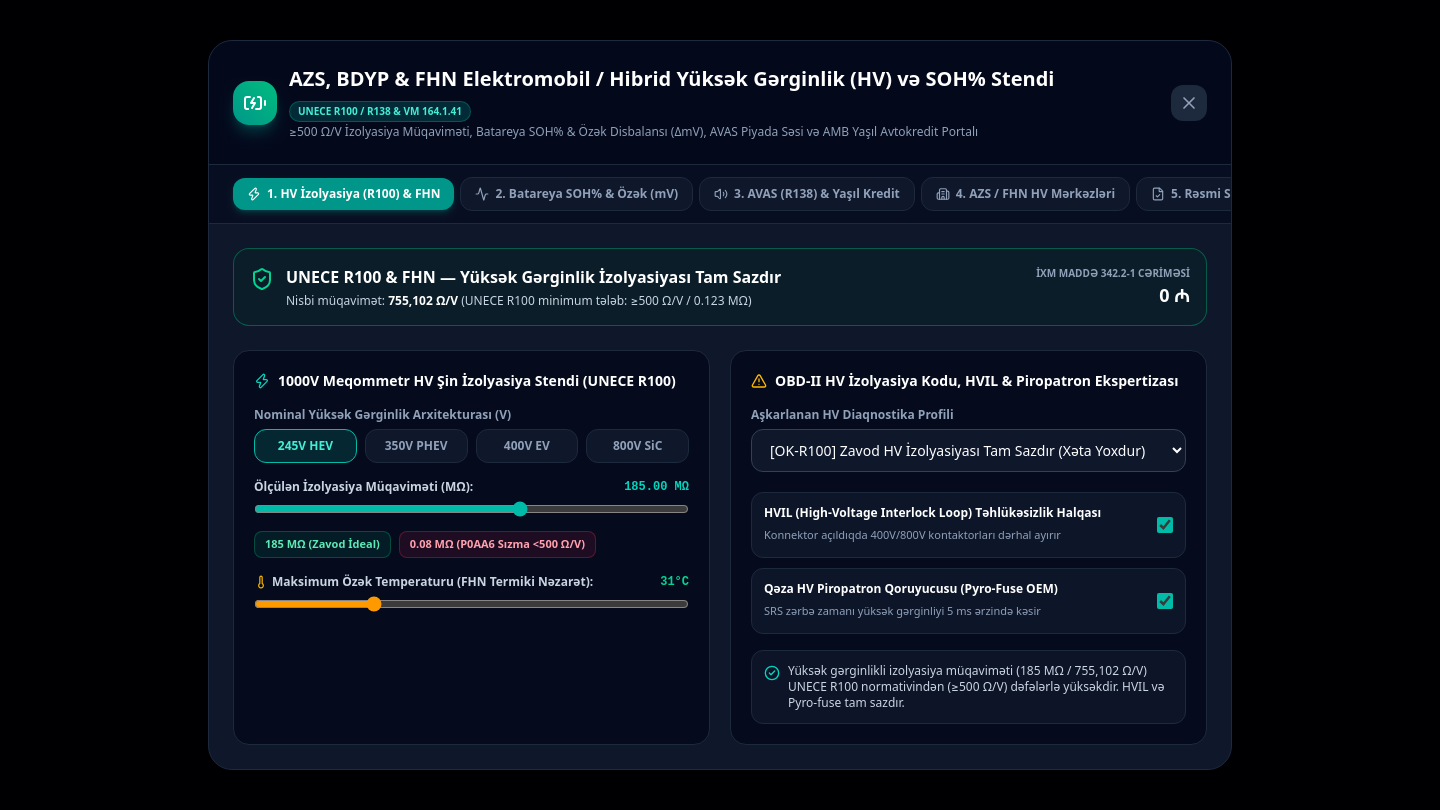
it: HvBatterySafetyModal component › renders Tab 1 (HV Insulation UNECE R100) by default and detects P0AA6 insulation leak (<500 Ω/V)
expect the element with test id "panel-hv-insulation" is shown: met, box [233,248,1207,745]
expect the text with test id "insulation-fine-amount" reads "0 ₼": met, box [1159,282,1190,306]
# Click preset for P0AA6 insulation leak
Click the button with test id "preset-insulation-leak" at (497, 544), box [399,531,596,558]
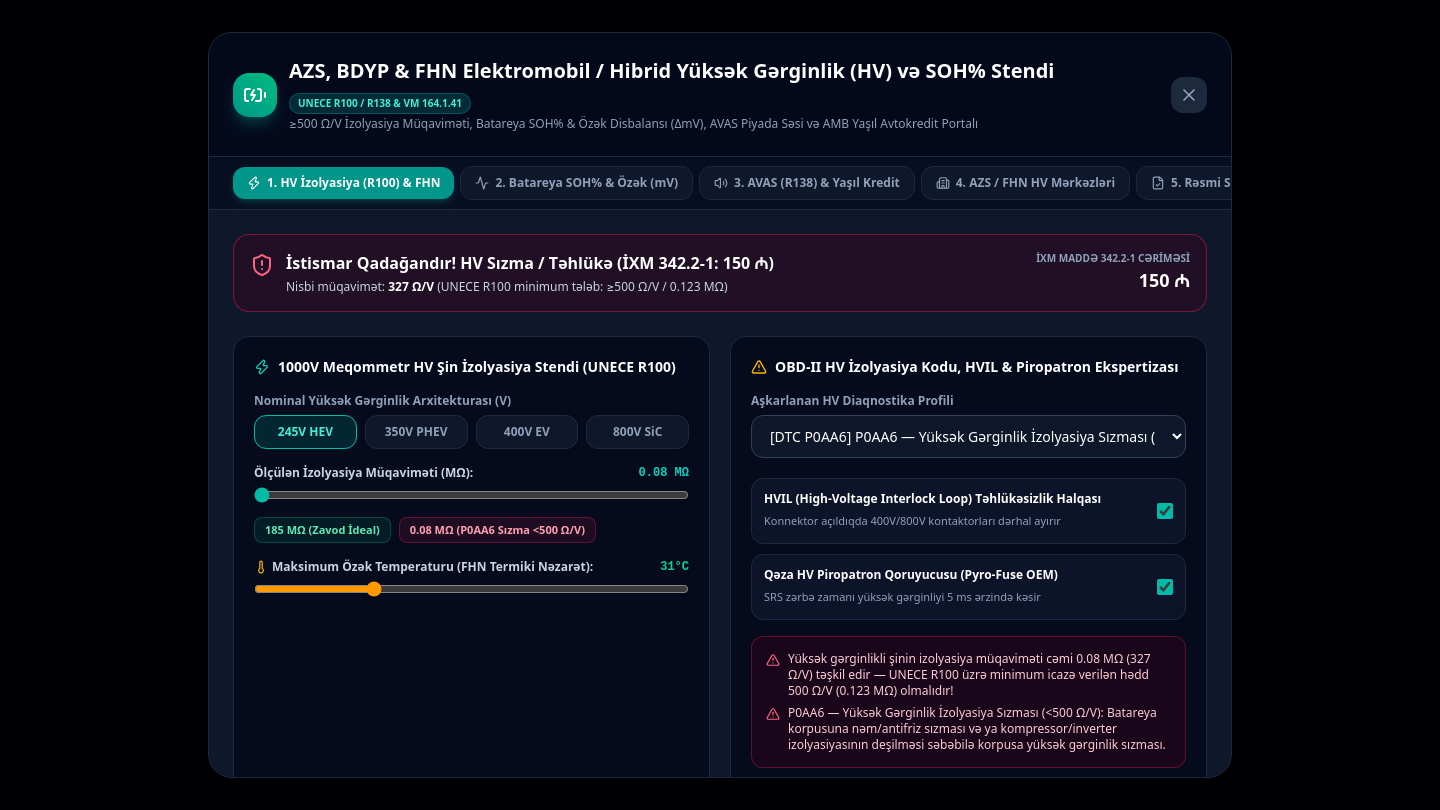
expect the text with test id "insulation-fine-amount" reads "150 ₼": met, box [1139,268,1190,292]
expect the element with test id "hv-insulation-verdict-banner" shows "İstismar Qadağandır": met, box [286,252,774,274]
